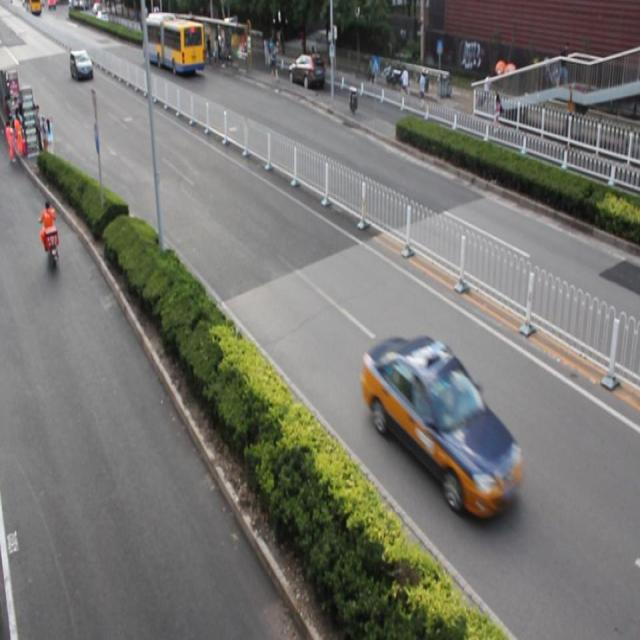car: (362, 334, 522, 521), (288, 53, 324, 88)
van: (141, 11, 203, 74)
